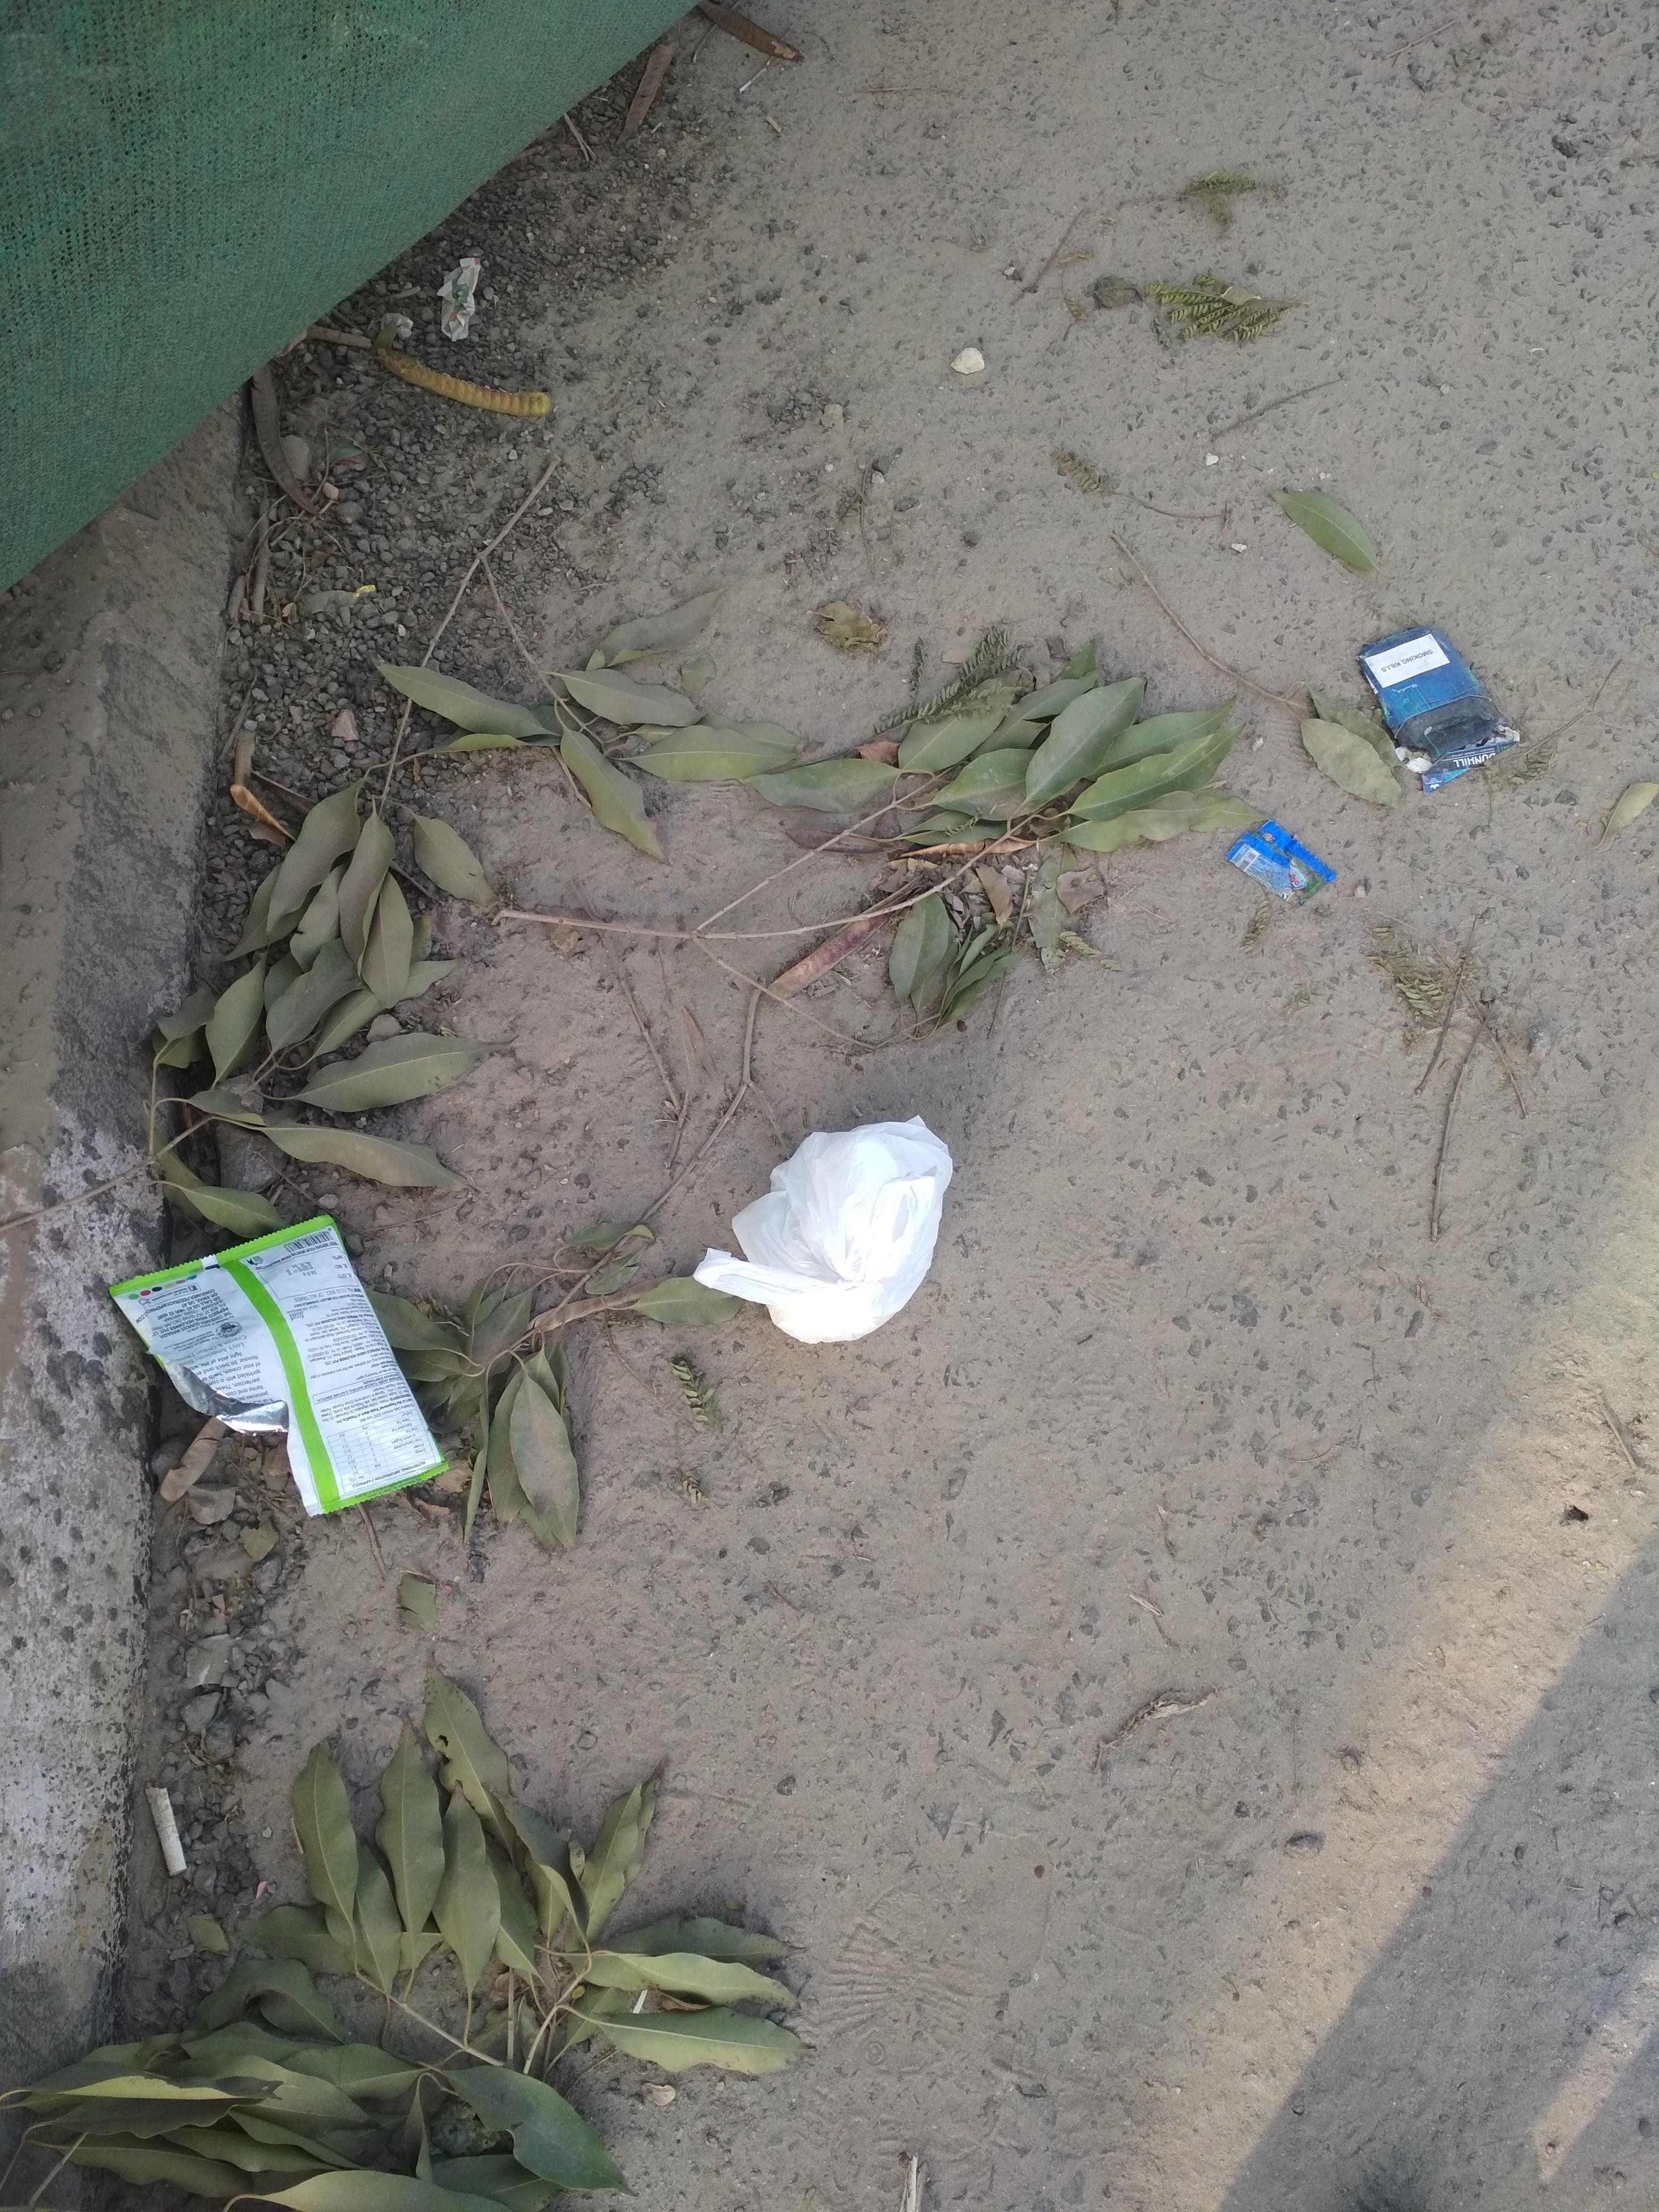trash: (105, 604, 1547, 1550)
